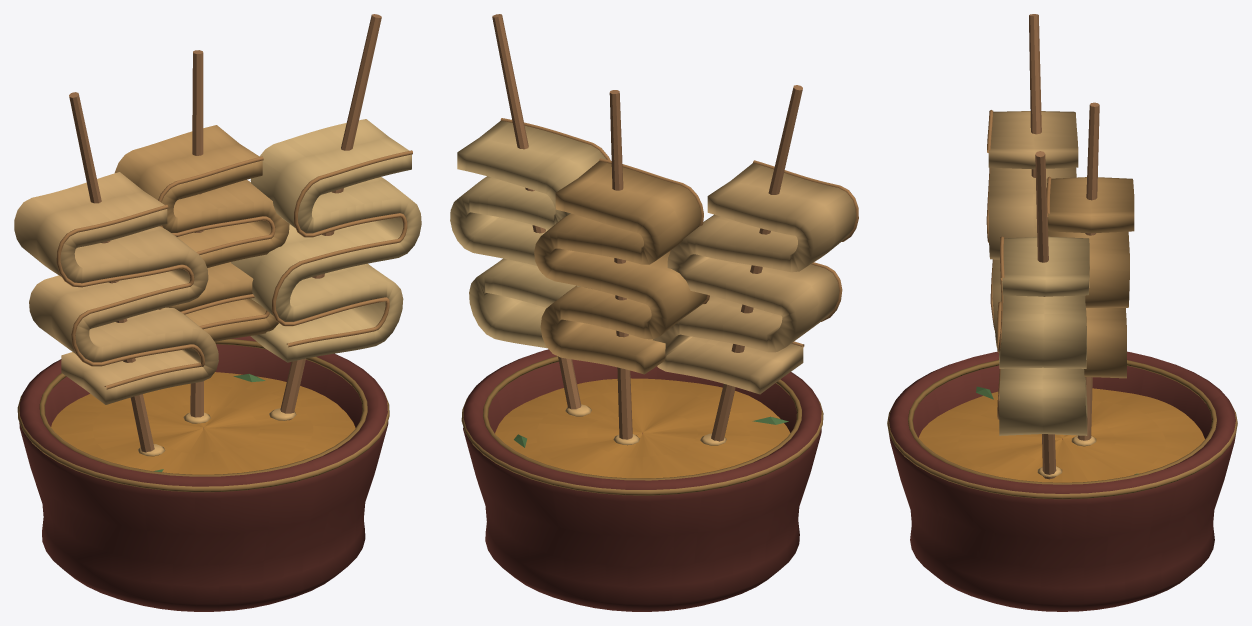
Rendered from oden-skewer.glb.
3 views of the same model, side by side, from view 1: azimuth 30°, elevation 25°; view 2: azimuth 150°, elevation 25°; view 3: azimuth 270°, elevation 25° (orthographic). The views are drawn at different scales.
Visible parts, largest first — view 1: Oden_burgundy_broth_vessel, Oden_left_threaded_accordion_sheet, Oden_right_threaded_accordion_sheet, Oden_warm_clear_broth, Oden_middle_threaded_accordion_sheet, Oden_right_toasted_front_edge, Oden_left_toasted_front_edge, Oden_Right_warm_wood_skewer, Oden_outer_antique_brass_lip, Oden_inner_thin_brass_line, Oden_Left_warm_wood_skewer, Oden_middle_toasted_front_edge (+1 smaller); view 2: Oden_burgundy_broth_vessel, Oden_left_threaded_accordion_sheet, Oden_middle_threaded_accordion_sheet, Oden_warm_clear_broth, Oden_right_threaded_accordion_sheet, Oden_Right_warm_wood_skewer, Oden_outer_antique_brass_lip, Oden_Left_warm_wood_skewer, Oden_Middle_warm_wood_skewer, Oden_inner_thin_brass_line, Oden_left_toasted_front_edge; view 3: Oden_burgundy_broth_vessel, Oden_right_threaded_accordion_sheet, Oden_warm_clear_broth, Oden_middle_threaded_accordion_sheet, Oden_left_threaded_accordion_sheet, Oden_inner_thin_brass_line, Oden_outer_antique_brass_lip, Oden_Right_warm_wood_skewer, Oden_Middle_warm_wood_skewer, Oden_Left_warm_wood_skewer, Oden_right_toasted_front_edge.
Boxes of the visible parts, <box> form: Oden_burgundy_broth_vessel: <box>19,336,388,611</box>; Oden_left_threaded_accordion_sheet: <box>14,172,218,404</box>; Oden_right_threaded_accordion_sheet: <box>231,119,421,362</box>; Oden_warm_clear_broth: <box>51,372,355,474</box>; Oden_middle_threaded_accordion_sheet: <box>114,125,289,341</box>; Oden_right_toasted_front_edge: <box>272,150,412,347</box>; Oden_left_toasted_front_edge: <box>56,205,204,389</box>; Oden_Right_warm_wood_skewer: <box>280,14,381,420</box>; Oden_outer_antique_brass_lip: <box>17,392,389,492</box>; Oden_inner_thin_brass_line: <box>39,339,367,476</box>; Oden_Left_warm_wood_skewer: <box>69,92,154,452</box>; Oden_middle_toasted_front_edge: <box>158,156,275,329</box>; Oden_burgundy_broth_vessel: <box>463,349,821,611</box>; Oden_left_threaded_accordion_sheet: <box>653,163,855,394</box>; Oden_middle_threaded_accordion_sheet: <box>534,161,707,374</box>; Oden_warm_clear_broth: <box>495,378,790,478</box>; Oden_right_threaded_accordion_sheet: <box>450,120,606,348</box>; Oden_Right_warm_wood_skewer: <box>492,14,581,409</box>; Oden_outer_antique_brass_lip: <box>461,398,823,495</box>; Oden_Left_warm_wood_skewer: <box>711,85,802,441</box>; Oden_Middle_warm_wood_skewer: <box>609,90,632,439</box>; Oden_inner_thin_brass_line: <box>483,356,801,480</box>; Oden_left_toasted_front_edge: <box>753,160,858,347</box>; Oden_burgundy_broth_vessel: <box>889,351,1235,611</box>; Oden_right_threaded_accordion_sheet: <box>999,236,1089,435</box>; Oden_warm_clear_broth: <box>918,388,1204,482</box>; Oden_middle_threaded_accordion_sheet: <box>1047,177,1134,378</box>; Oden_left_threaded_accordion_sheet: <box>988,111,1078,347</box>; Oden_inner_thin_brass_line: <box>908,359,1216,484</box>; Oden_outer_antique_brass_lip: <box>887,404,1237,499</box>; Oden_Right_warm_wood_skewer: <box>1035,151,1056,479</box>; Oden_Middle_warm_wood_skewer: <box>1077,102,1099,440</box>; Oden_Left_warm_wood_skewer: <box>1029,14,1041,177</box>; Oden_right_toasted_front_edge: <box>997,236,1004,419</box>.
Size of the model in its own units: 1.12 by 1.48 by 0.98.
